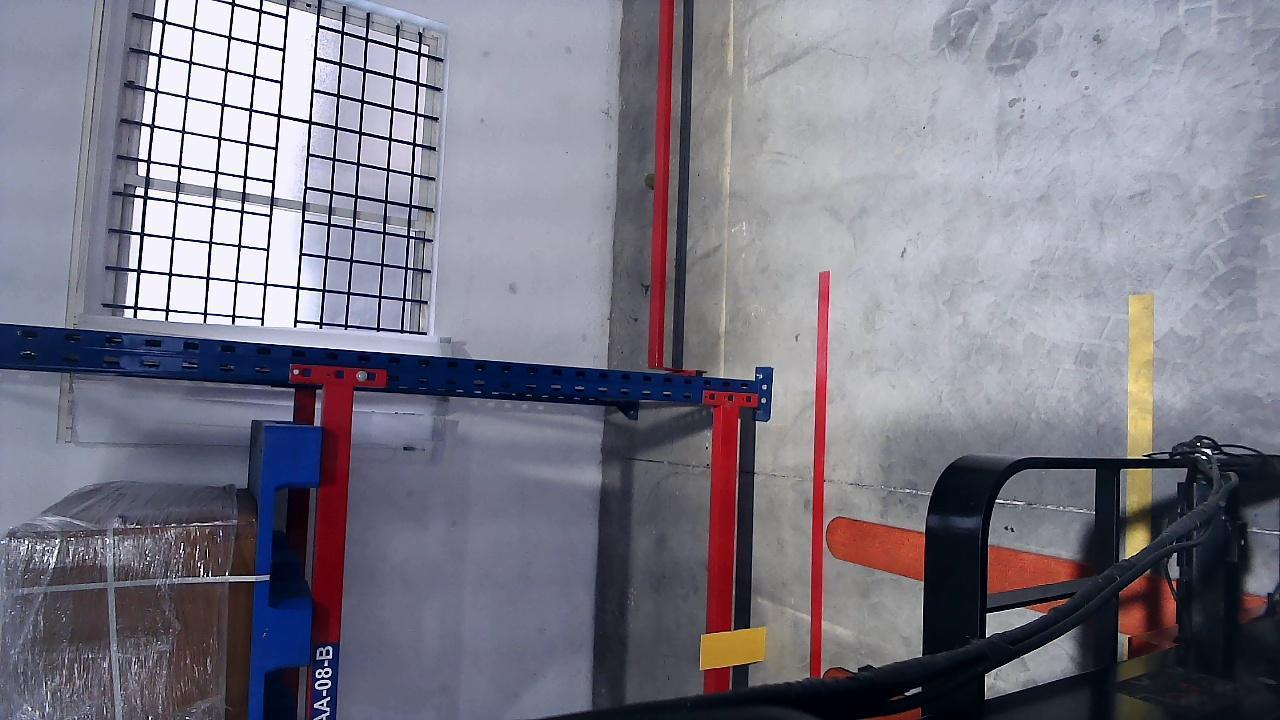red_line: (816, 277, 824, 677)
yellow_line: (1126, 293, 1156, 563)
